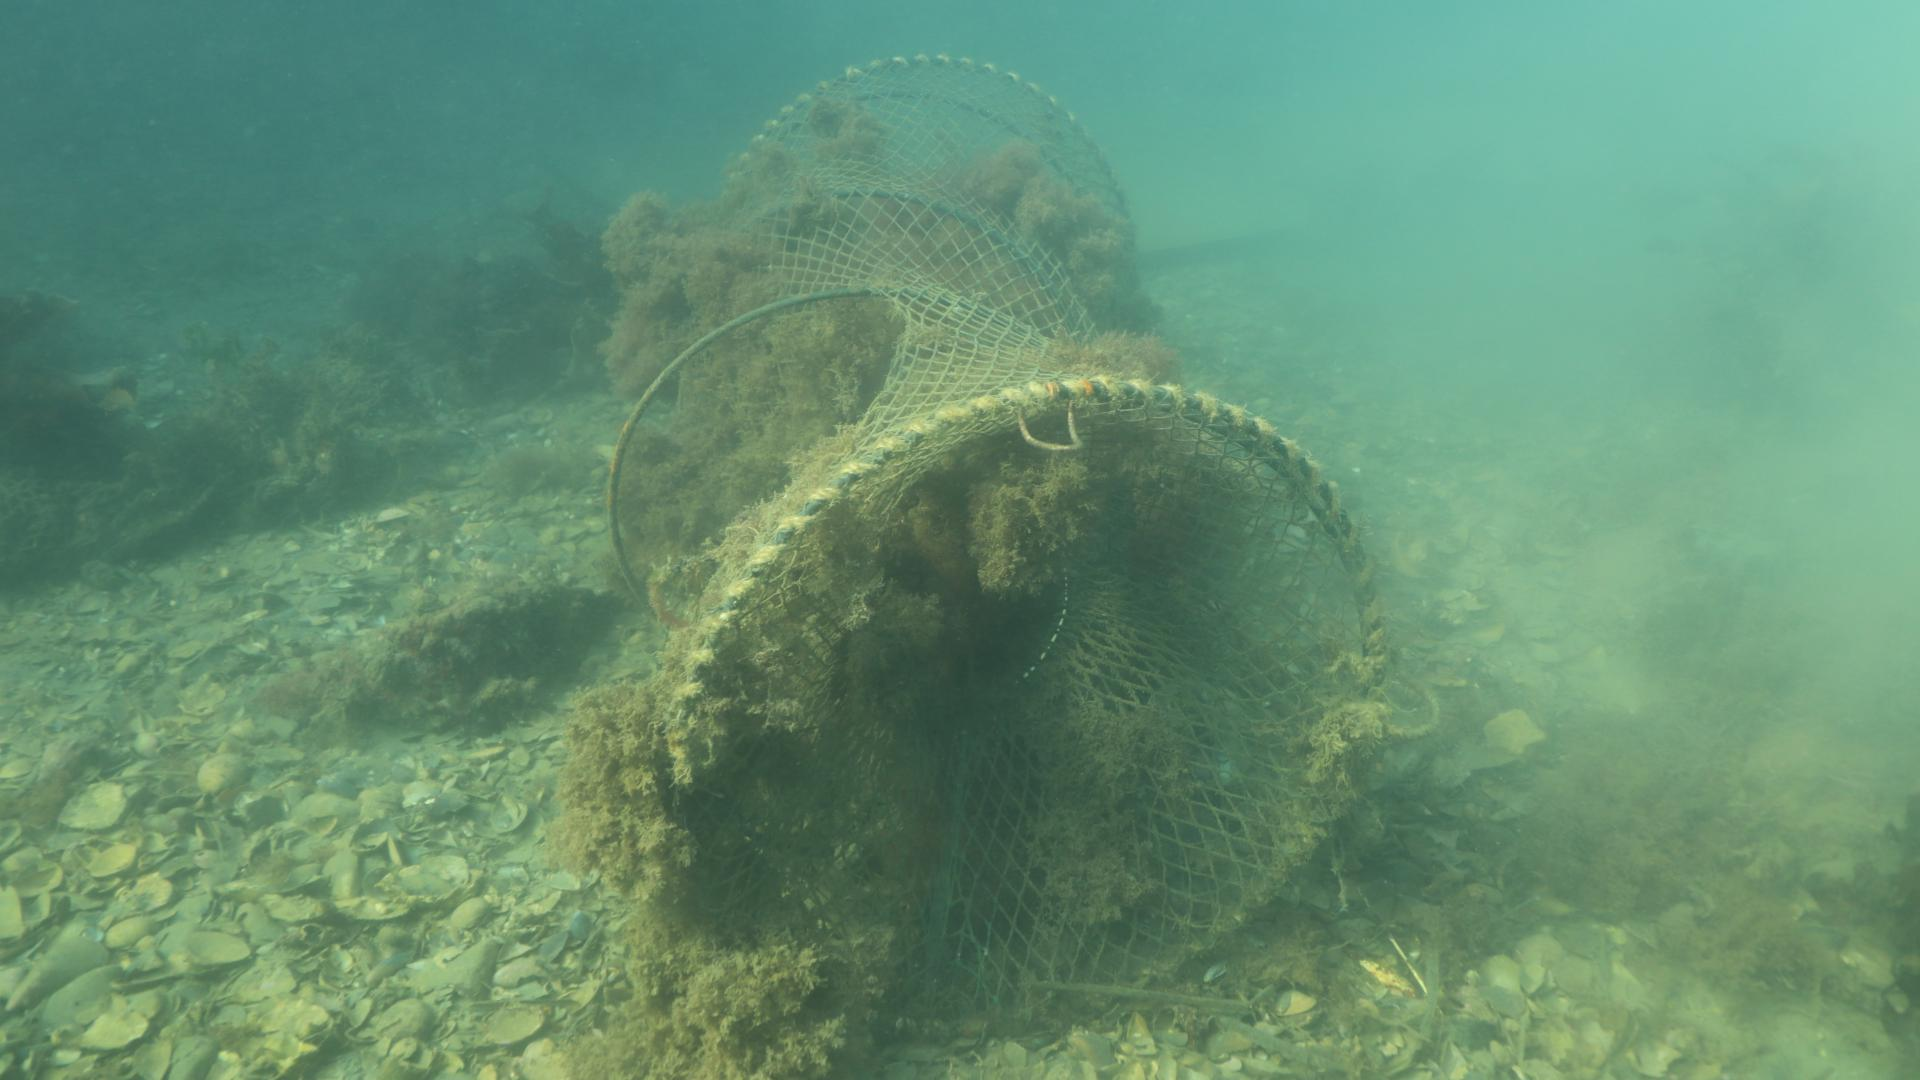spring fish trap: (604, 51, 1400, 1064)
